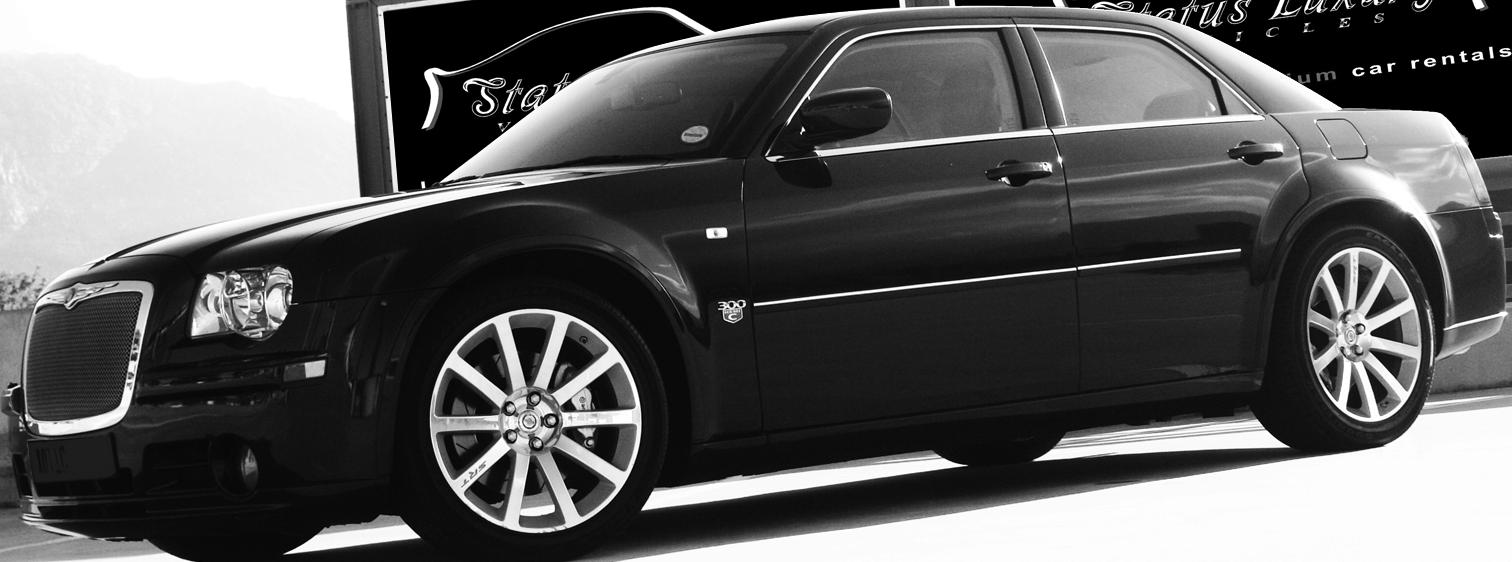front_view: (20, 206, 394, 534)
headlight: (164, 253, 290, 353)
side_glass: (777, 0, 1236, 134)
